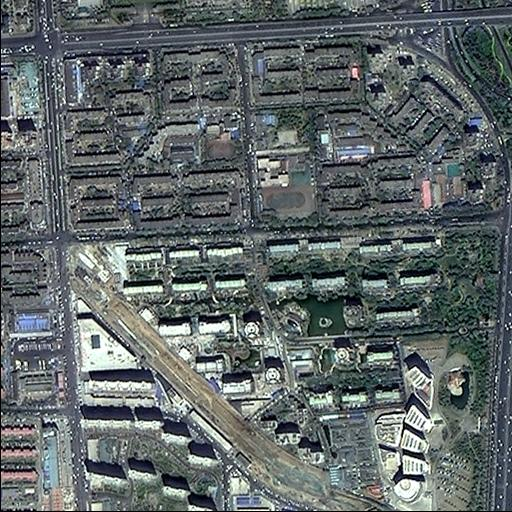school: (254, 152, 320, 225), (202, 110, 245, 166)
